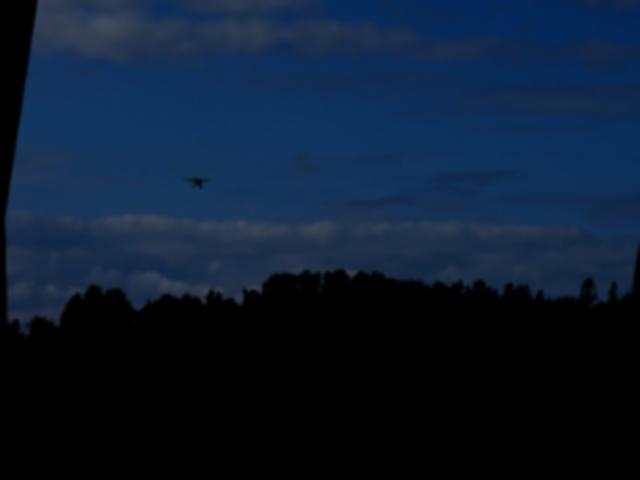plane: (180, 176, 212, 199)
